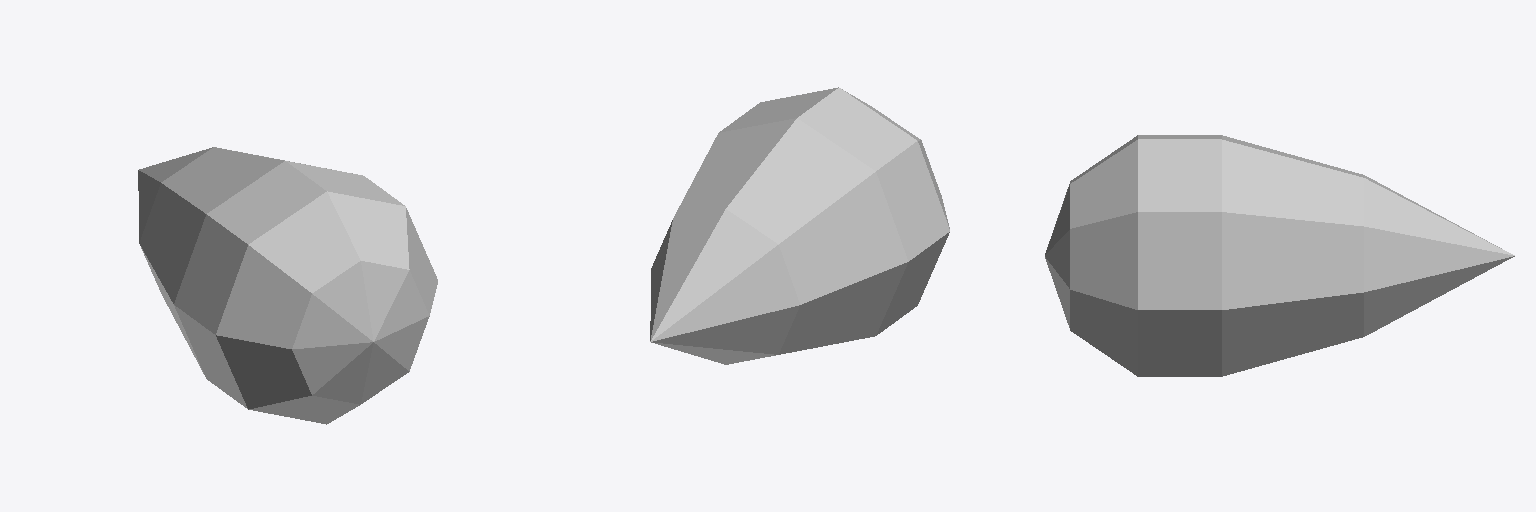
File: person.obj
3 views of the same model, side by side, from view 1: azimuth 30°, elevation 25°; view 2: azimuth 150°, elevation 25°; view 3: azimuth 270°, elevation 25° (orthographic).
Visible parts, largest first — view 1: Sphere; view 2: Sphere; view 3: Sphere.
Part boxes in pixels (x1,y1,x2,y2): Sphere: (138, 147, 437, 424); Sphere: (650, 87, 949, 364); Sphere: (1045, 135, 1514, 376).
Size of the model in its own units: 0.2553 by 0.2553 by 0.4673.